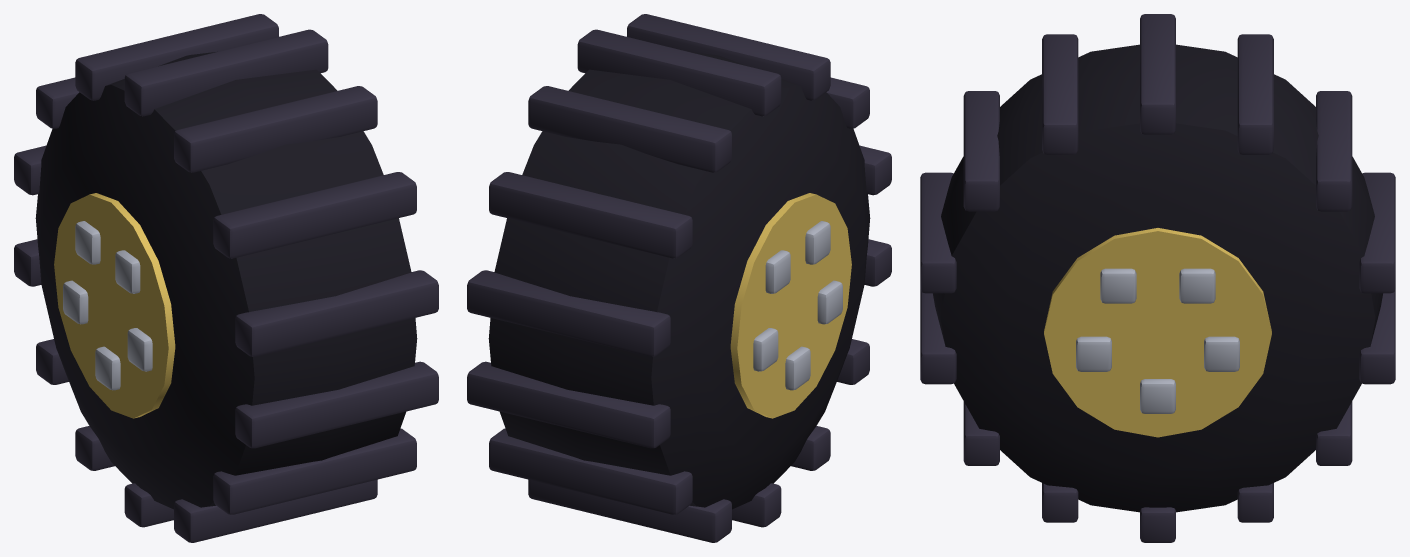
Rendered from Car_Wheel.fbx.
The picture shows the model from 3 angles, left to right: view 1: azimuth 30°, elevation 25°; view 2: azimuth 150°, elevation 25°; view 3: azimuth 270°, elevation 25°; orthographic projection.
Parts seen in each view (by area): view 1: Car_Wheel; view 2: Car_Wheel; view 3: Car_Wheel.
Boxes of the visible parts, left/top/right/bottom form: Car_Wheel: left=14, top=14, right=438, bottom=542; Car_Wheel: left=467, top=14, right=891, bottom=542; Car_Wheel: left=920, top=14, right=1395, bottom=542.
Size of the model in its own units: 0.055 by 0.094 by 0.0918.
